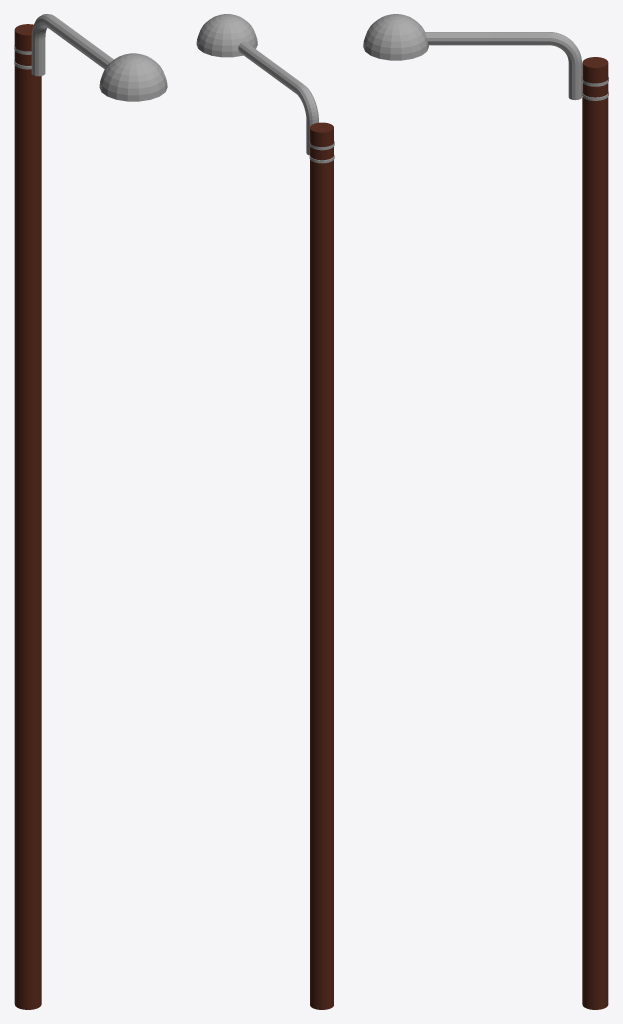
The model's file is lamppost.fbx.
3 renders of one model, left to right at view 1: azimuth 30°, elevation 25°; view 2: azimuth 210°, elevation 25°; view 3: azimuth 270°, elevation 25°, orthographic. The views are drawn at different scales.
Parts seen in each view (by area): view 1: Sphere; view 2: Sphere; view 3: Sphere.
Part boxes in pixels (x1,y1,x2,y2): Sphere: [14, 14, 167, 1009]; Sphere: [196, 14, 334, 1009]; Sphere: [363, 14, 608, 1009].
Size of the model in its own units: 43.73 by 735 by 165.
1 material, 1 textured.
